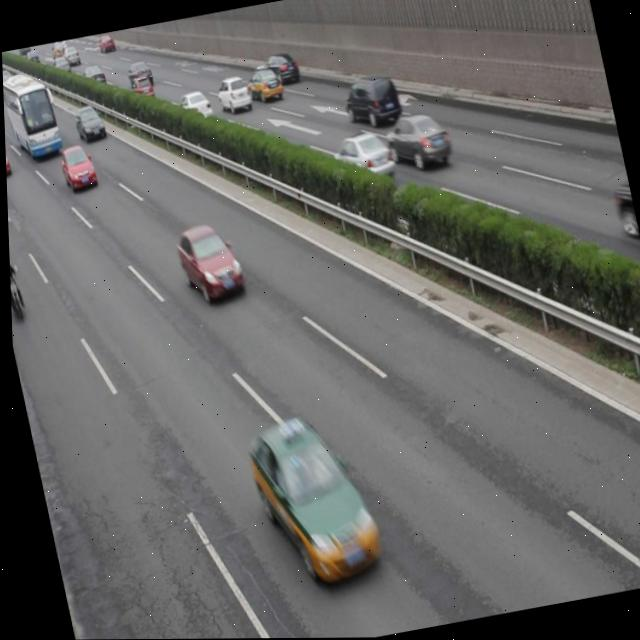car: (245, 416, 386, 589), (171, 220, 244, 306), (380, 107, 455, 176), (327, 127, 396, 188), (57, 141, 97, 194), (243, 64, 284, 106), (215, 75, 252, 115), (262, 52, 301, 89), (177, 87, 213, 125), (71, 104, 106, 143), (125, 60, 154, 89), (80, 63, 106, 89), (130, 75, 153, 101), (4, 139, 12, 182)
truck: (340, 71, 402, 133)
van: (2, 70, 65, 163)
